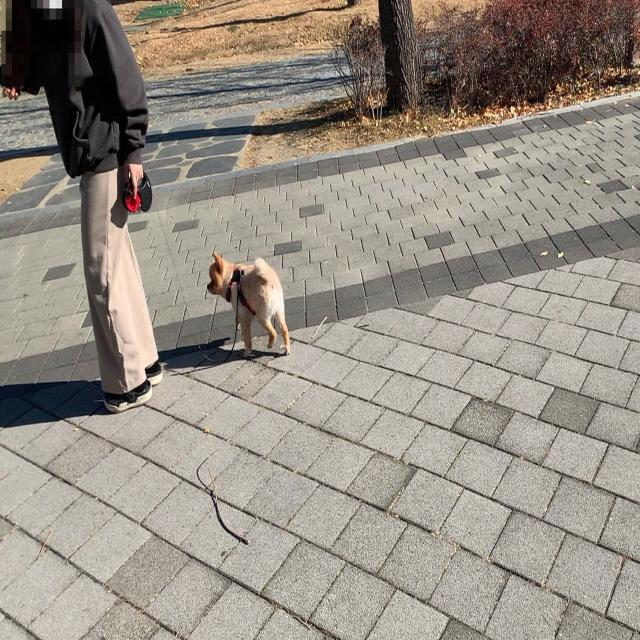Leashed_Dog: (103, 158, 291, 358)
